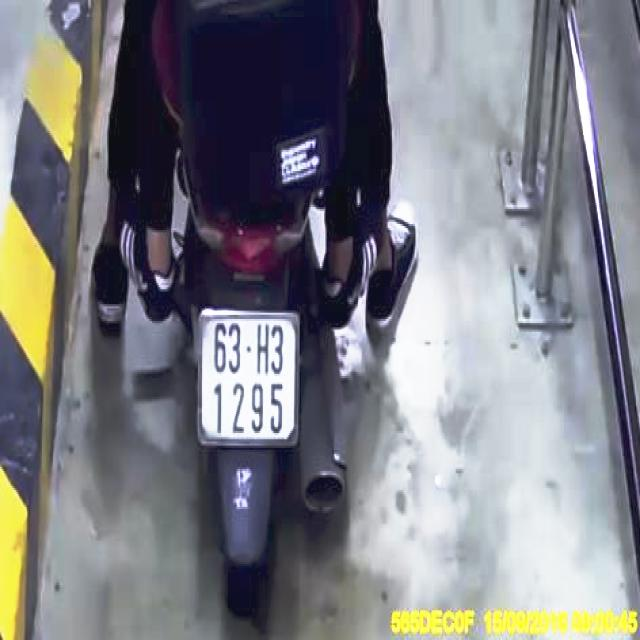license_plate: (198, 312, 301, 446)
